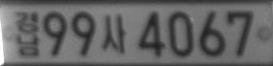0: (167, 10, 194, 56)
4: (138, 10, 166, 57)
6: (198, 10, 226, 57)
7: (227, 10, 254, 56)
9: (42, 10, 68, 56), (71, 10, 96, 55)
경남_V: (14, 10, 41, 57)
사: (101, 13, 128, 54)
